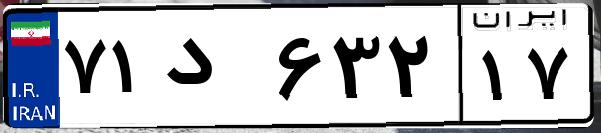1: (475, 38, 525, 113), (110, 28, 158, 98)
2: (385, 28, 445, 110)
3: (330, 28, 385, 110)
6: (270, 28, 330, 110)
7: (57, 26, 110, 100), (525, 38, 570, 115)
د: (158, 20, 270, 120)
